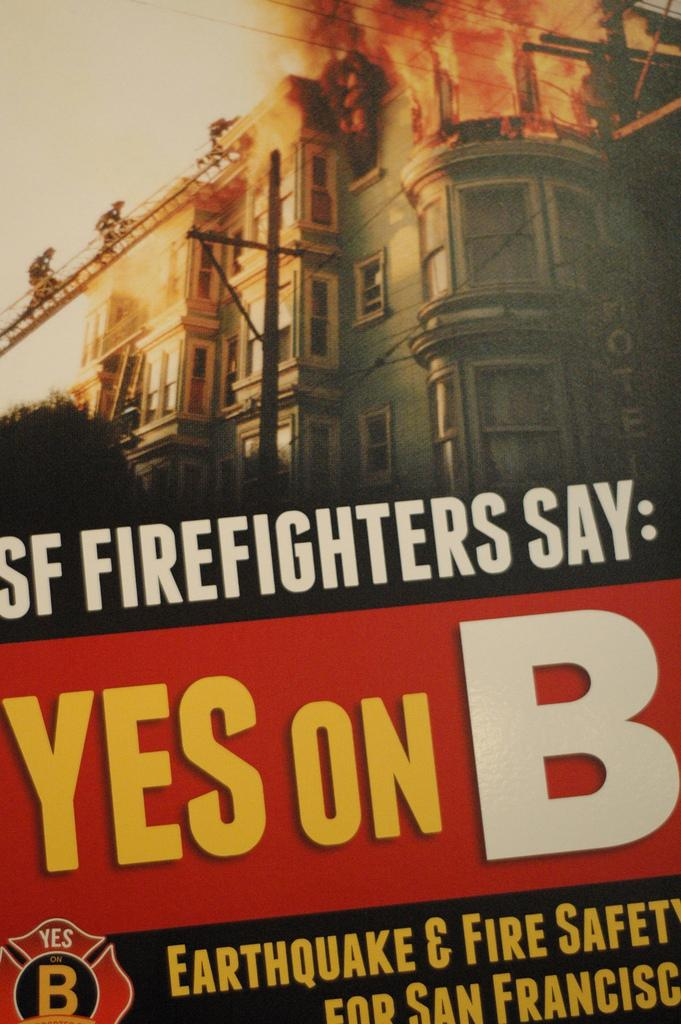fire: (427, 0, 605, 132)
